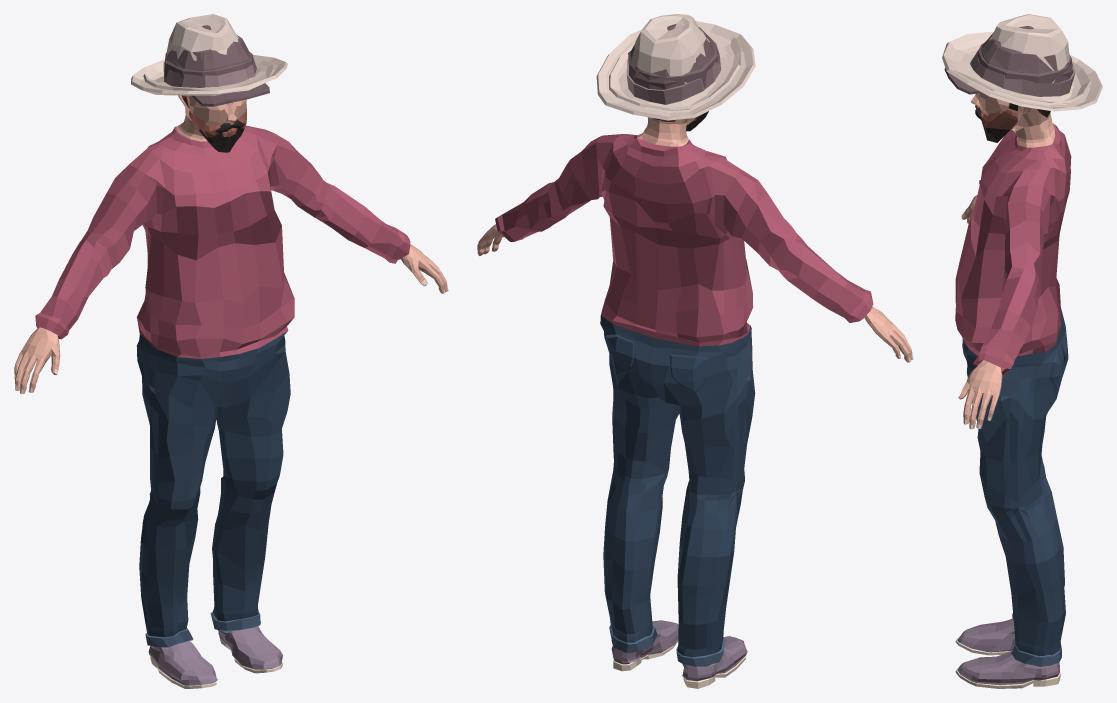
The model's file is character_NPC_M_03.fbx.
3 views of the same model, side by side, from view 1: azimuth 30°, elevation 25°; view 2: azimuth 150°, elevation 25°; view 3: azimuth 270°, elevation 25° (orthographic).
Visible parts, largest first — view 1: charaBody_npcM_V03_geo, charaProps_NPC_M_V03_geo, charaProps_NPC_M_V01_geo, charaProps_NPC_M_V02_geo, charaProps_NPC_M_V05_geo, charaProps_NPC_M_V04_geo; view 2: charaBody_npcM_V03_geo, charaProps_NPC_M_V03_geo, charaProps_NPC_M_V04_geo, charaProps_NPC_M_V05_geo, charaProps_NPC_M_V01_geo; view 3: charaBody_npcM_V03_geo, charaProps_NPC_M_V03_geo, charaProps_NPC_M_V01_geo, charaProps_NPC_M_V04_geo, charaProps_NPC_M_V05_geo, charaProps_NPC_M_V02_geo, charaBeard_NPC_M_V01_geo, charaBeard_NPC_M_V02_geo.
Part boxes in pixels (left/top/right/bottom): charaBody_npcM_V03_geo: left=14, top=95, right=448, bottom=688; charaProps_NPC_M_V03_geo: left=131, top=14, right=287, bottom=95; charaProps_NPC_M_V01_geo: left=164, top=25, right=252, bottom=80; charaProps_NPC_M_V02_geo: left=173, top=44, right=269, bottom=106; charaProps_NPC_M_V05_geo: left=163, top=57, right=256, bottom=87; charaProps_NPC_M_V04_geo: left=143, top=59, right=274, bottom=93; charaBody_npcM_V03_geo: left=477, top=117, right=913, bottom=688; charaProps_NPC_M_V03_geo: left=596, top=14, right=755, bottom=120; charaProps_NPC_M_V04_geo: left=609, top=36, right=740, bottom=110; charaProps_NPC_M_V05_geo: left=626, top=47, right=720, bottom=104; charaProps_NPC_M_V01_geo: left=628, top=24, right=718, bottom=89; charaBody_npcM_V03_geo: left=955, top=93, right=1071, bottom=688; charaProps_NPC_M_V03_geo: left=942, top=14, right=1102, bottom=111; charaProps_NPC_M_V01_geo: left=977, top=26, right=1072, bottom=83; charaProps_NPC_M_V04_geo: left=952, top=39, right=1091, bottom=105; charaProps_NPC_M_V05_geo: left=970, top=49, right=1075, bottom=96; charaProps_NPC_M_V02_geo: left=944, top=39, right=1072, bottom=94; charaBeard_NPC_M_V01_geo: left=976, top=106, right=1017, bottom=129; charaBeard_NPC_M_V02_geo: left=982, top=123, right=1010, bottom=142.
Size of the model in its own units: 345 by 490 by 112.
